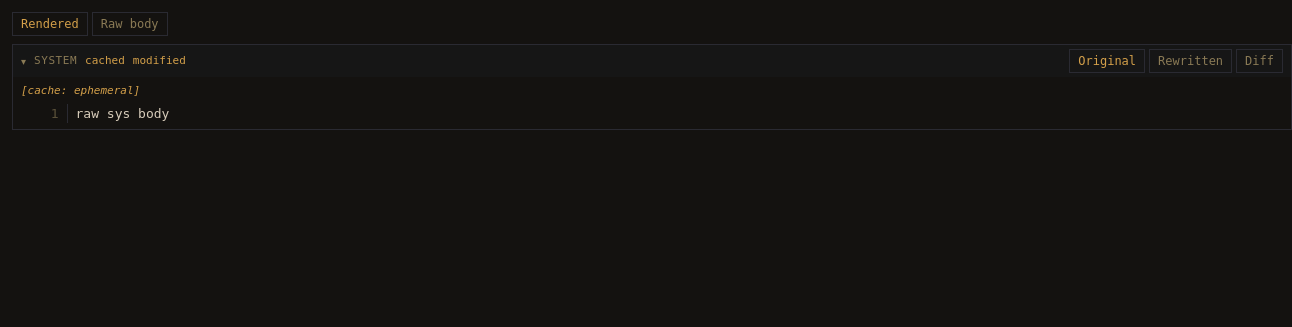
Test case: SystemSegment › Raw body shows the untouched system JSON (block structure + cache_control)
The width and height of the screenshot is (1292, 327).
Click the button "Raw body" at [130, 24], box x1=92 y1=12 x2=168 y2=36
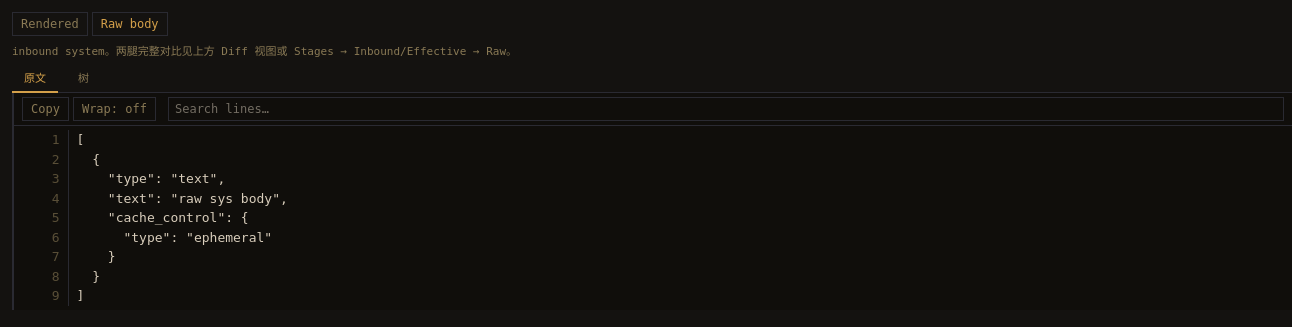
Expected: the text "ephemeral" is shown, x1=76 y1=230 x2=272 y2=244
Now the text "cache_control" is shown, box x1=76 y1=210 x2=249 y2=225
